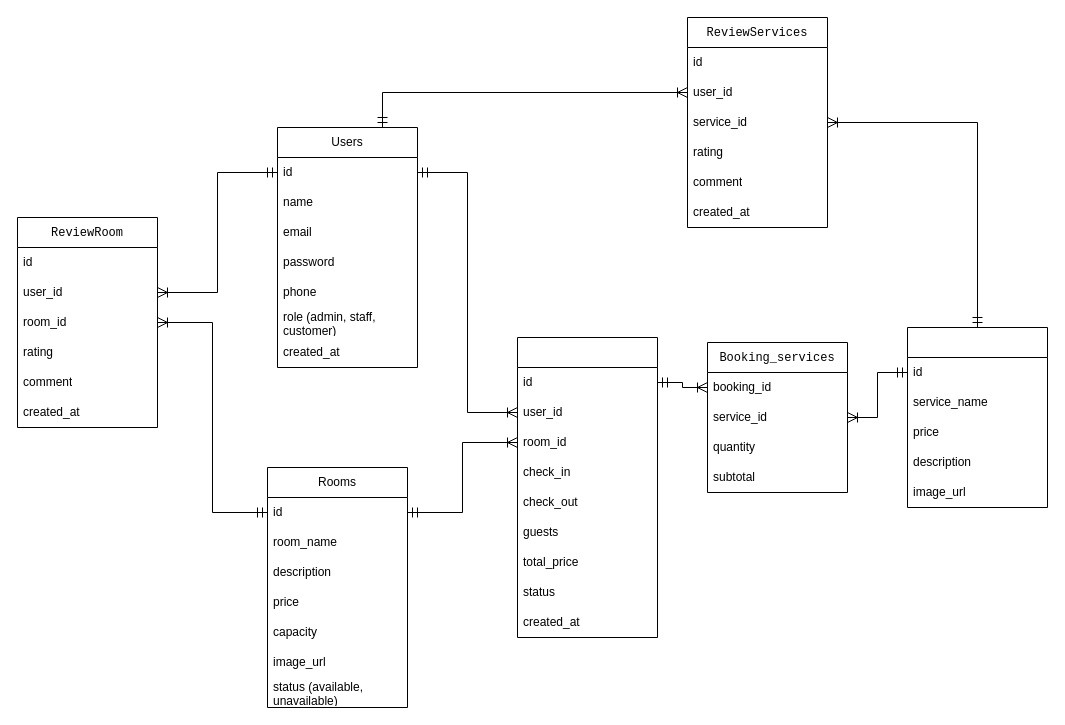
Image size: 1065x725. Some labels were removed from this diagram. Each missing label, with the box of its shape:
Bookings: (516, 336, 658, 638)
Services: (906, 326, 1048, 508)
